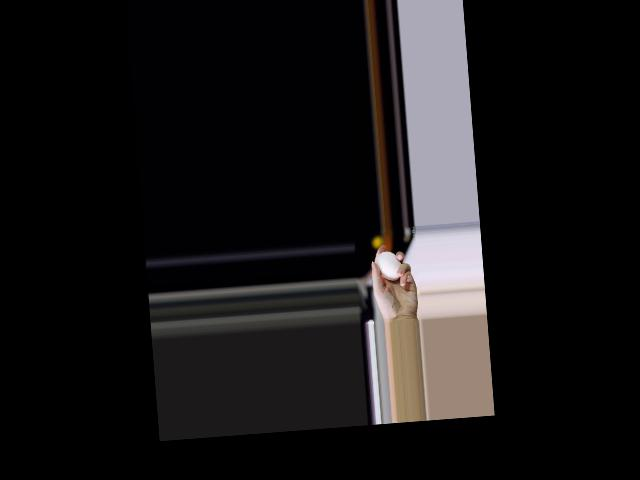egg: (375, 249, 402, 281)
